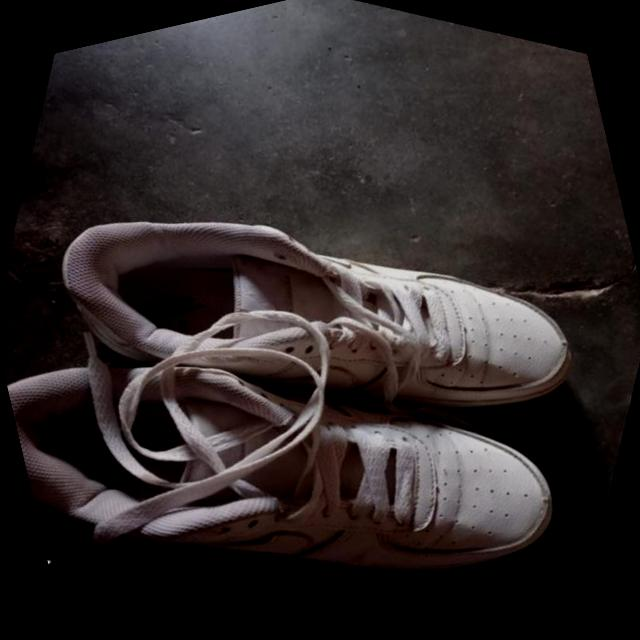nike_fake_airforce: (9, 72, 635, 568), (0, 196, 605, 640)
